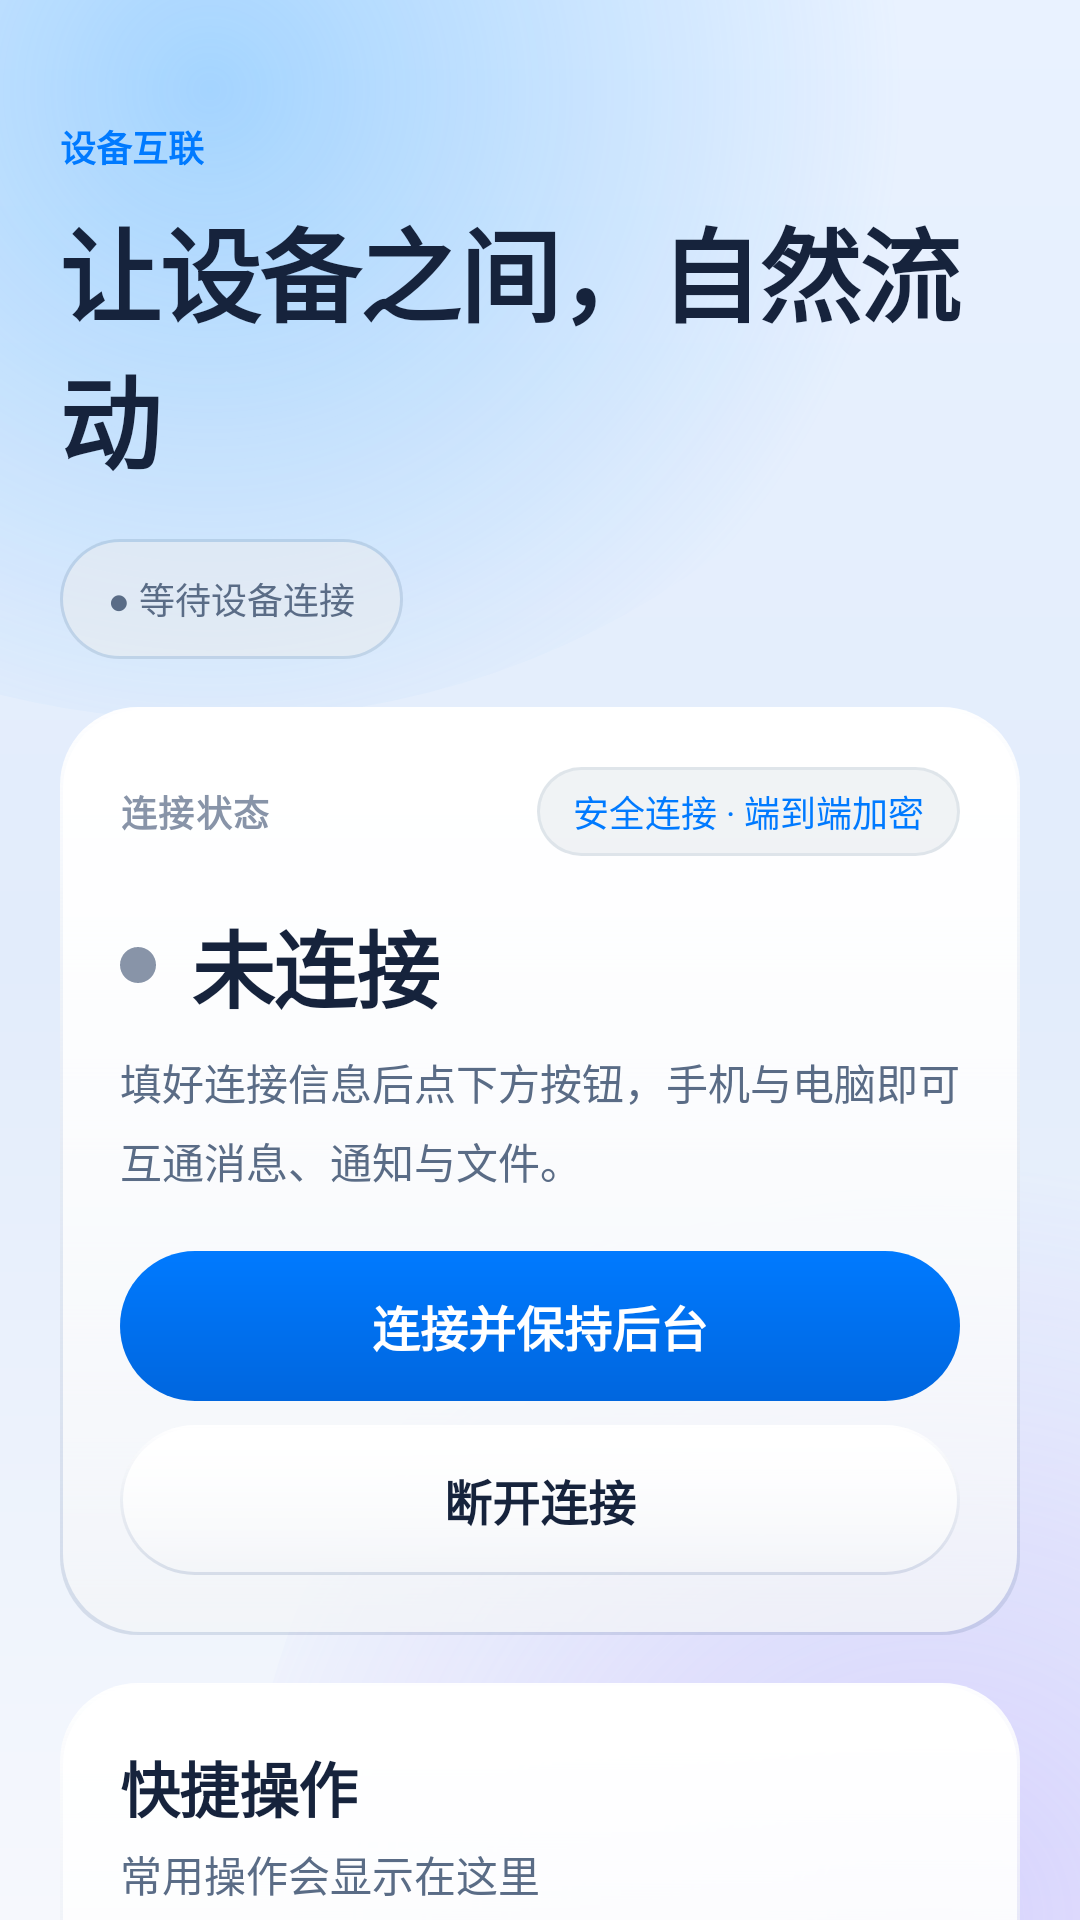

Icons on this 1080x1920 Android screen, each with its box as (x1, y1, x2, y2):
dot: (120, 947, 156, 983)
